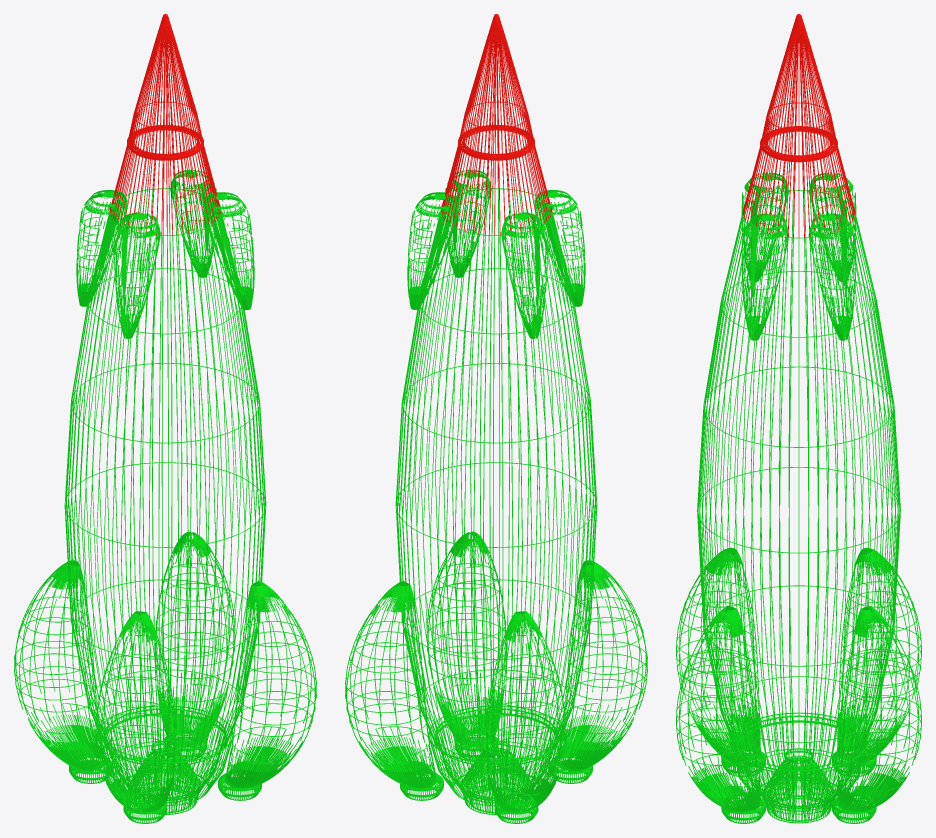
The model's file is nuclear-missile-highlight-atomic-warhead-nose.glb.
The picture shows the model from 3 angles, left to right: view 1: azimuth 30°, elevation 25°; view 2: azimuth 150°, elevation 25°; view 3: azimuth 270°, elevation 25°; orthographic projection.
Parts seen in each view (by area): view 1: chassis technical wire, four-delivery-thrusters technical wire, air-brake-manoeuvring-system technical wire, atomic-warhead-nose technical wire; view 2: chassis technical wire, four-delivery-thrusters technical wire, air-brake-manoeuvring-system technical wire, atomic-warhead-nose technical wire; view 3: chassis technical wire, four-delivery-thrusters technical wire, atomic-warhead-nose technical wire, air-brake-manoeuvring-system technical wire.
Part boxes in pixels (left/top/right/bottom): chassis technical wire: left=64, top=188, right=266, bottom=814; four-delivery-thrusters technical wire: left=14, top=531, right=316, bottom=823; air-brake-manoeuvring-system technical wire: left=76, top=169, right=254, bottom=338; atomic-warhead-nose technical wire: left=109, top=14, right=221, bottom=235; chassis technical wire: left=395, top=188, right=597, bottom=814; four-delivery-thrusters technical wire: left=345, top=531, right=647, bottom=823; air-brake-manoeuvring-system technical wire: left=407, top=169, right=585, bottom=338; atomic-warhead-nose technical wire: left=441, top=14, right=552, bottom=235; chassis technical wire: left=697, top=190, right=900, bottom=823; four-delivery-thrusters technical wire: left=676, top=547, right=921, bottom=823; atomic-warhead-nose technical wire: left=742, top=14, right=855, bottom=237; air-brake-manoeuvring-system technical wire: left=741, top=172, right=856, bottom=340.
Size of the model in its own units: 1.73 by 6.19 by 1.73.
